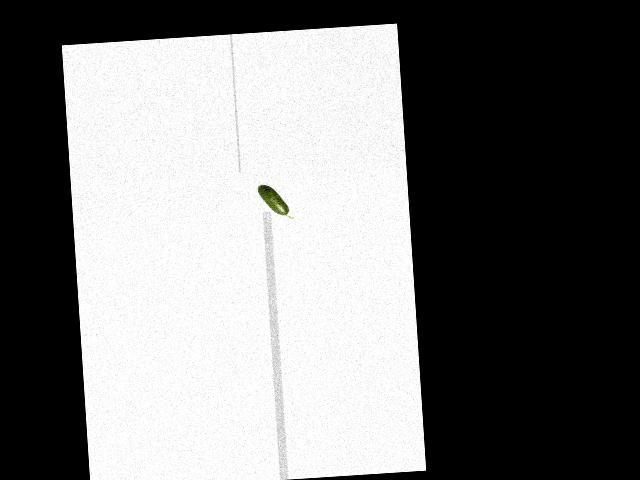cucumber: (256, 183, 293, 221)
